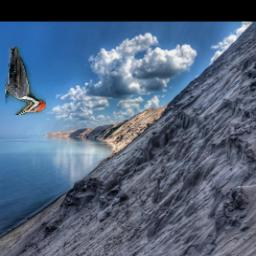Woodpecker: (6, 48, 47, 116)
